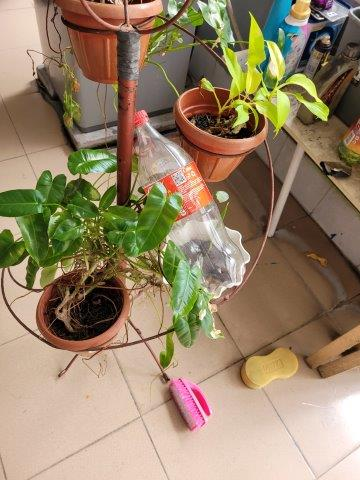botolplastik: (132, 113, 244, 290)
